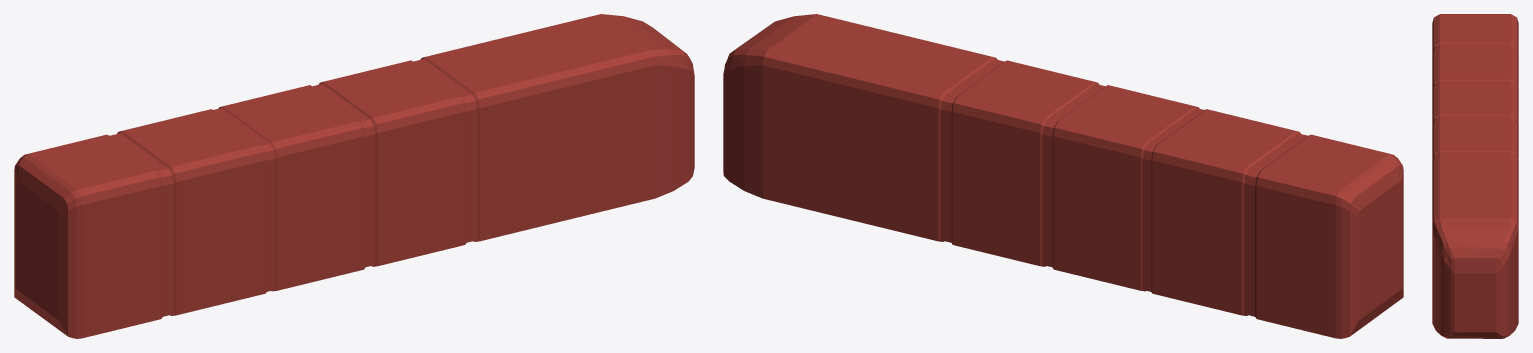
The model's file is Streetcar.fbx.
3 renders of one model, left to right at view 1: azimuth 30°, elevation 25°; view 2: azimuth 150°, elevation 25°; view 3: azimuth 270°, elevation 25°, orthographic. The views are drawn at different scales.
Visible parts, largest first — view 1: Streetcar1:pCube1; view 2: Streetcar1:pCube1; view 3: Streetcar1:pCube1.
Boxes of the visible parts, <box> form: Streetcar1:pCube1: <box>14,14,694,338</box>; Streetcar1:pCube1: <box>723,14,1403,338</box>; Streetcar1:pCube1: <box>1432,14,1518,338</box>.
Bounding box in the file's own units: 5.31 × 1.18 × 0.8476.
